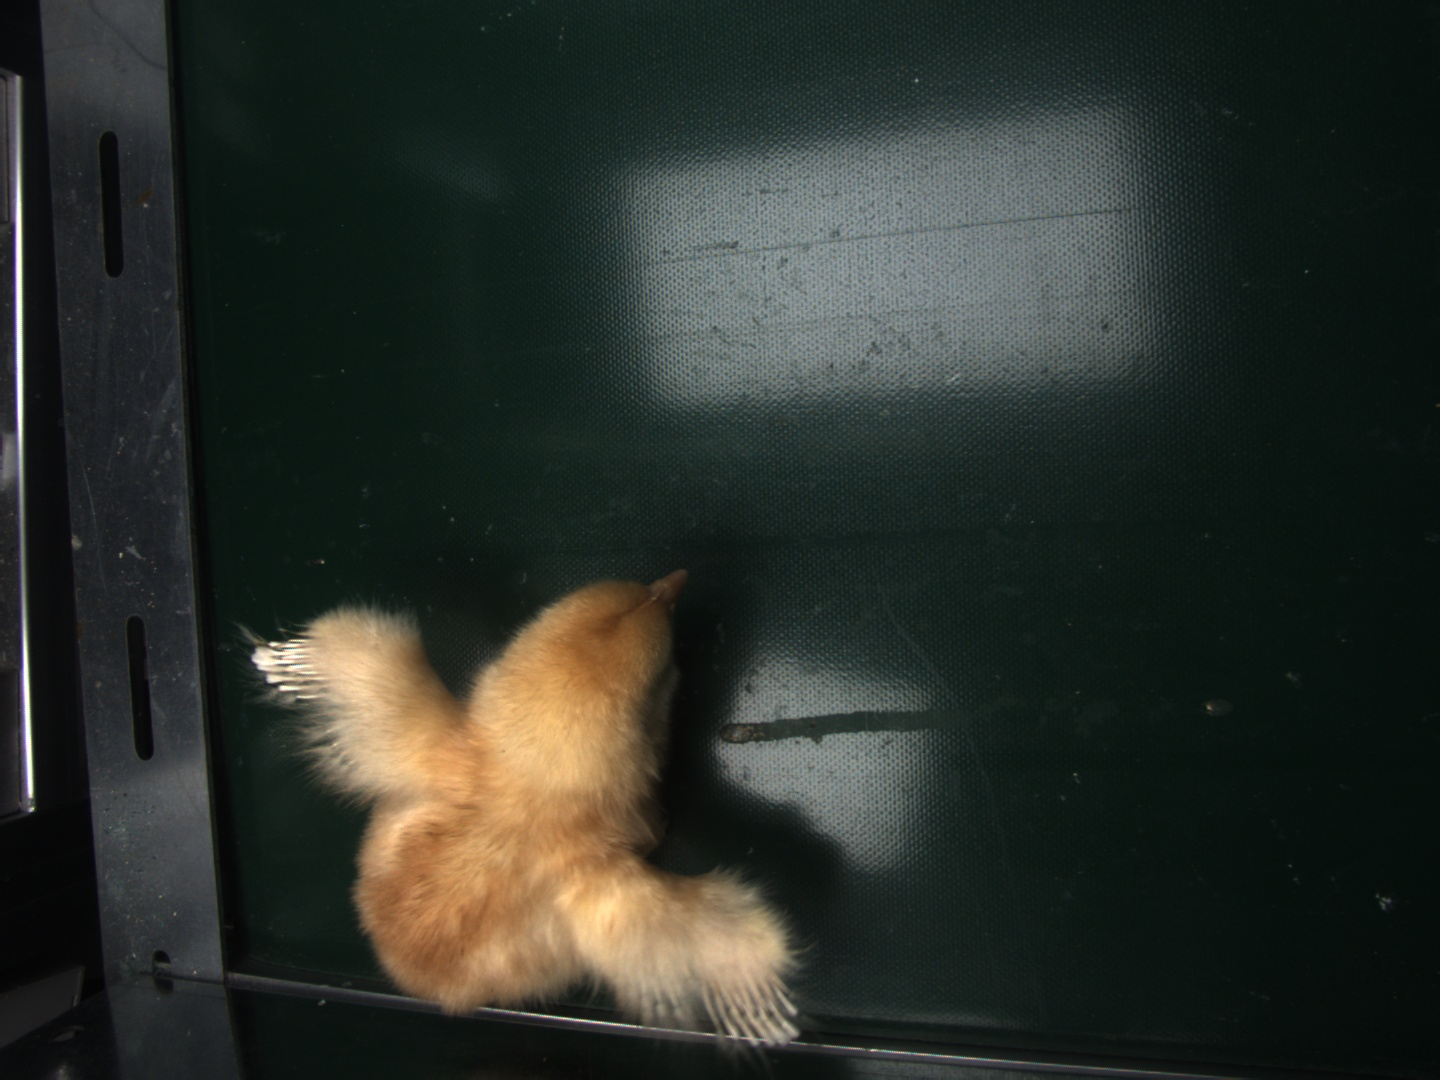female: (252, 632, 328, 700)
